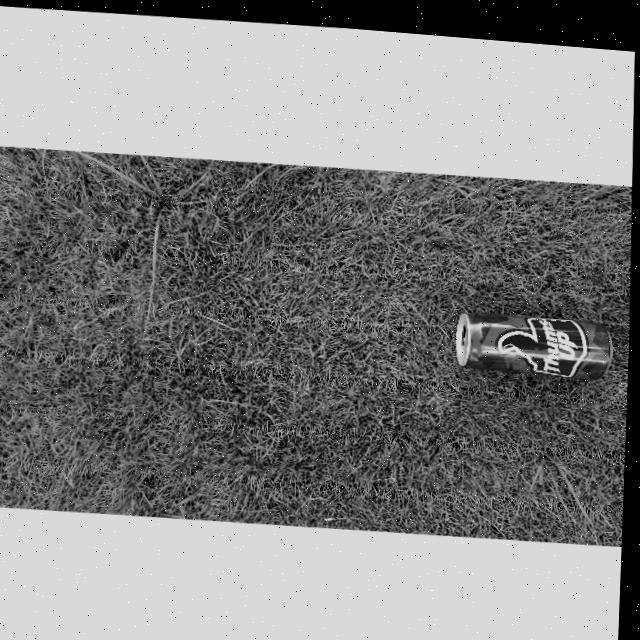Thums Up: (457, 294, 613, 371)
